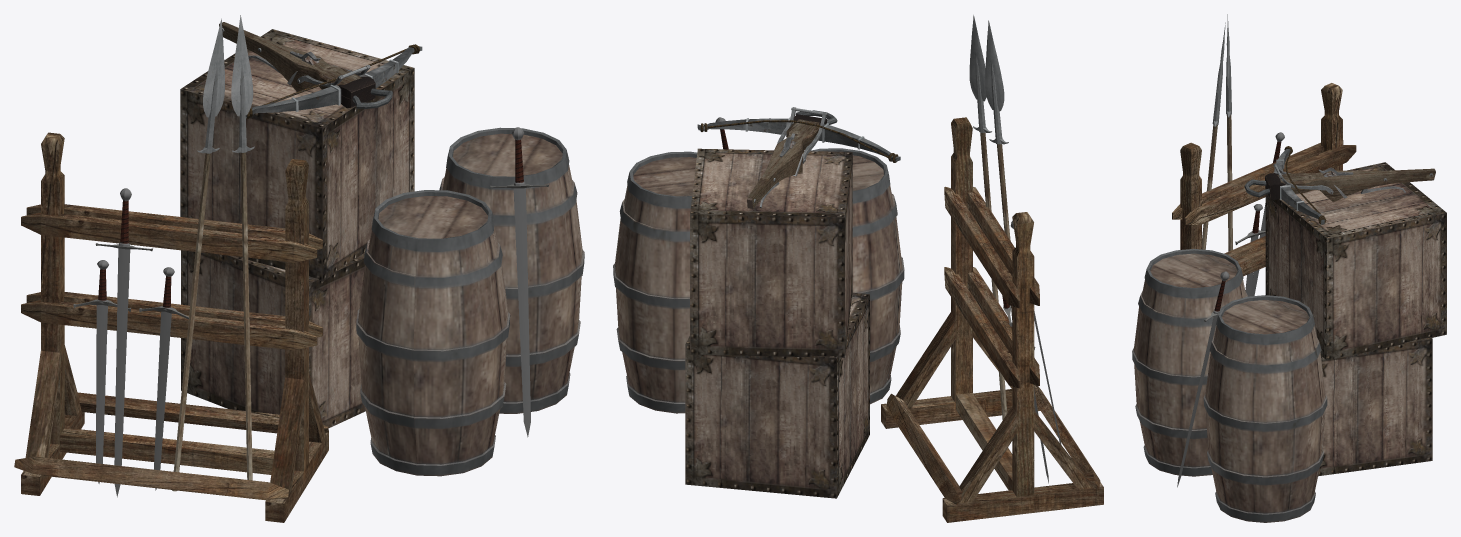
File: Props.fbx
3 views of the same model, side by side, from view 1: azimuth 30°, elevation 25°; view 2: azimuth 150°, elevation 25°; view 3: azimuth 270°, elevation 25° (orthographic). The views are drawn at different scales.
Parts seen in each view (by area): view 1: Props; view 2: Props; view 3: Props.
Boxes of the visible parts, <box> form: Props: <box>14,15,584,522</box>; Props: <box>613,15,1103,522</box>; Props: <box>1132,14,1446,522</box>.
Size of the model in its own units: 236 by 194 by 150.
